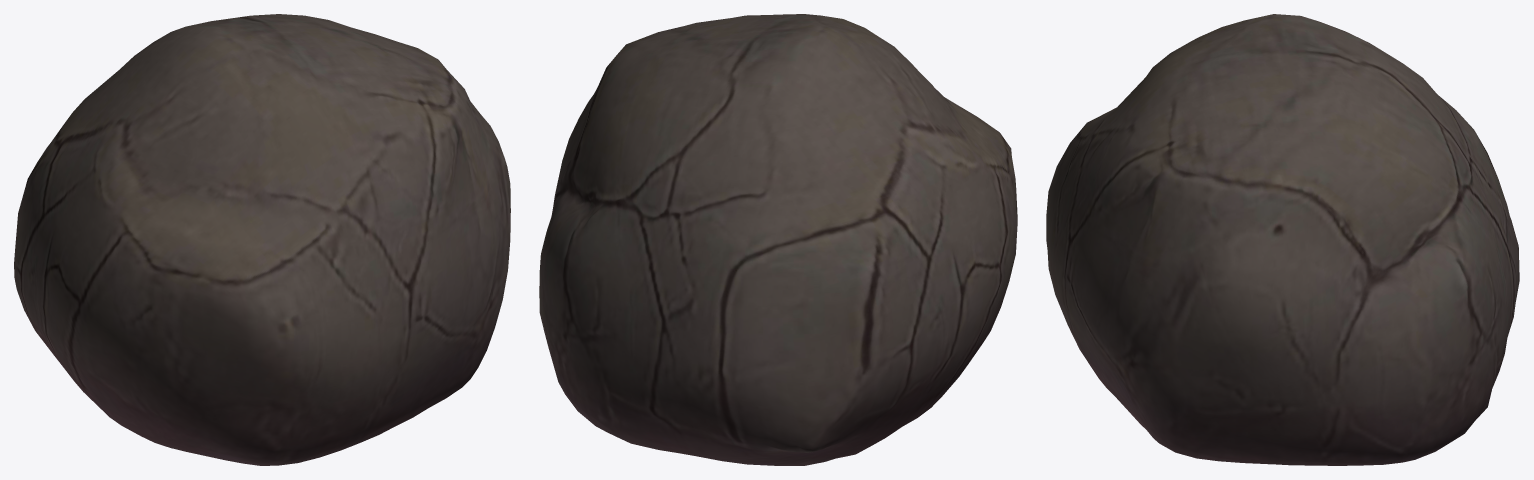
File: stylized_rock_ball_.glb
The picture shows the model from 3 angles, left to right: view 1: azimuth 30°, elevation 25°; view 2: azimuth 150°, elevation 25°; view 3: azimuth 270°, elevation 25°; orthographic projection. The views are drawn at different scales.
Parts seen in each view (by area): view 1: mesh; view 2: mesh; view 3: mesh.
Boxes of the visible parts, x1=… form: mesh: x1=14, y1=14, x2=510, y2=465; mesh: x1=539, y1=14, x2=1017, y2=465; mesh: x1=1046, y1=14, x2=1519, y2=465.
Bounding box in the file's own units: 0.9969 × 0.8953 × 0.9771.
Materials: 1 (1 with a texture image).
